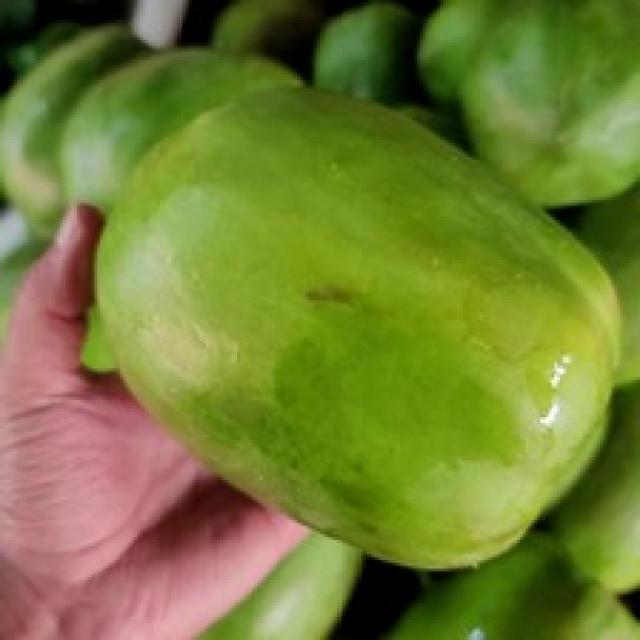Pepaya unrippen: (80, 70, 624, 588)
